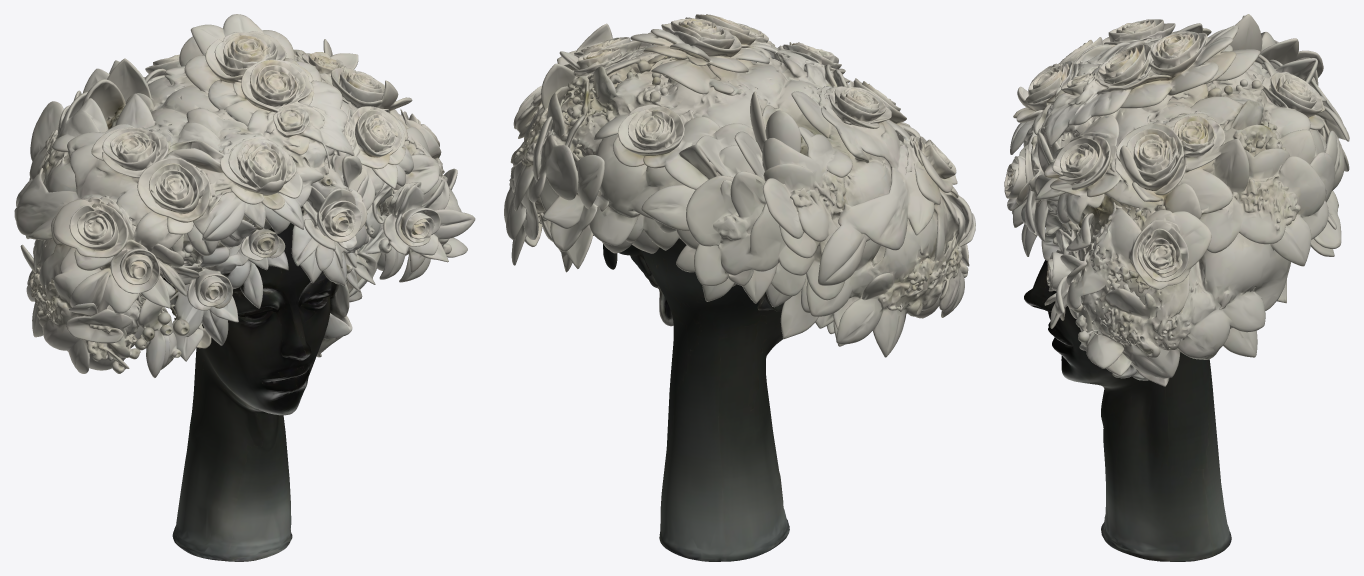
The picture shows the model from 3 angles, left to right: view 1: azimuth 30°, elevation 25°; view 2: azimuth 150°, elevation 25°; view 3: azimuth 270°, elevation 25°; orthographic projection. The views are drawn at different scales.
Visible parts, largest first — view 1: node_0; view 2: node_0; view 3: node_0.
Boxes of the visible parts, x1,y1,x2,y2 form: node_0: (14, 14, 475, 561); node_0: (504, 14, 975, 561); node_0: (1004, 14, 1349, 561).
Bounding box in the file's own units: 33031 × 38284 × 23239.
Materials: 1 (1 with a texture image).
